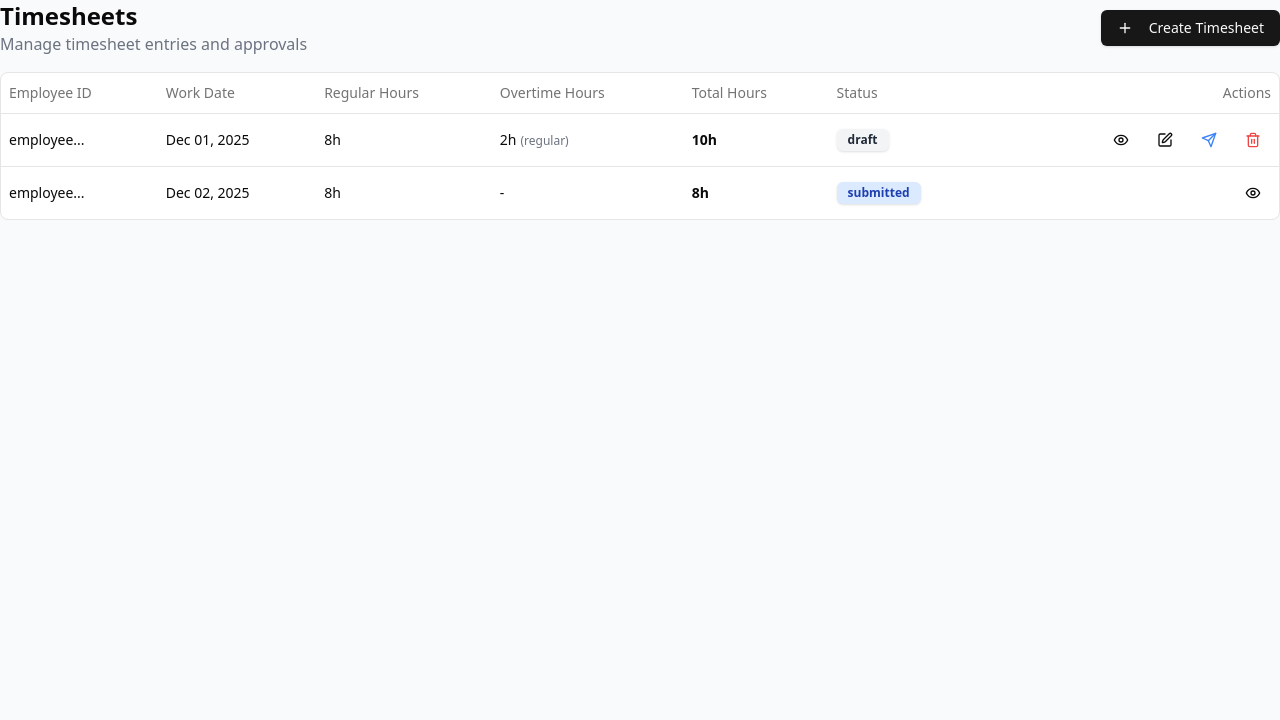
Scenario: TimesheetList › should open delete dialog on delete click
The width and height of the screenshot is (1280, 720).
Expected: the text "draft" is shown, [837,128,888,150]
Click the button titled "Delete". click: (1253, 140)
box: [1235,122,1271,158]
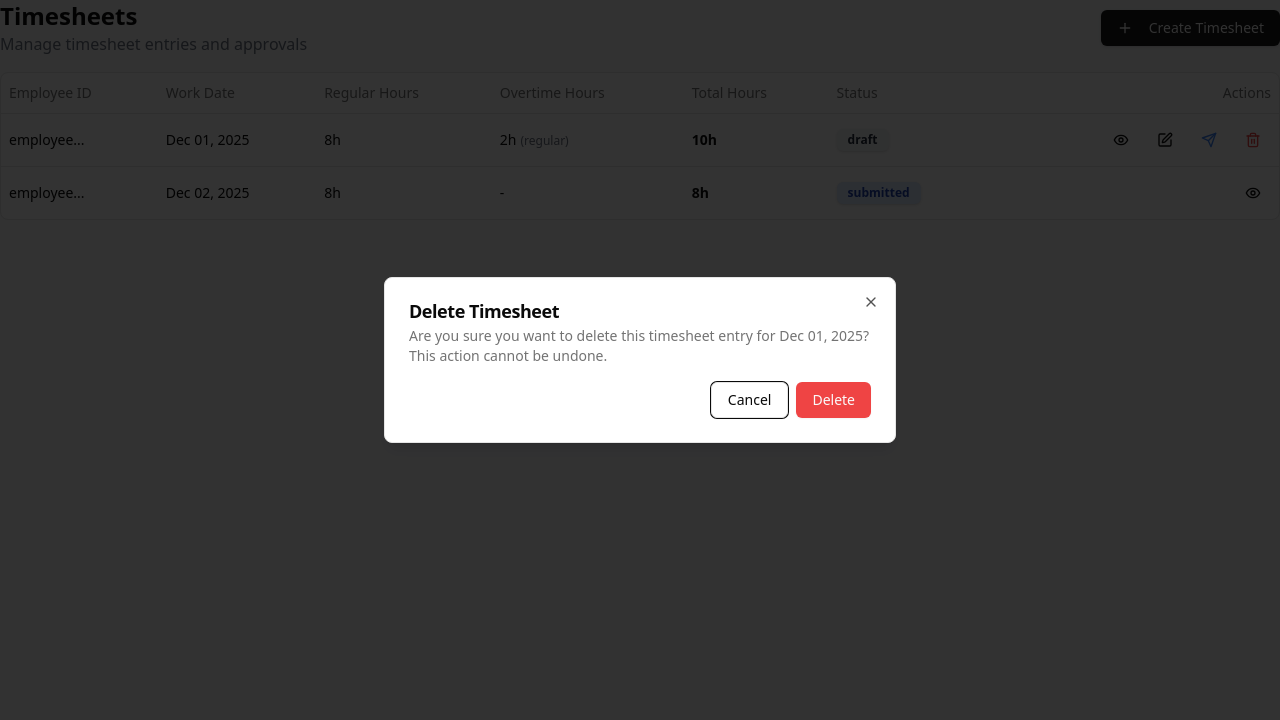
Expected: the heading "Delete Timesheet" is shown, [409,299,559,323]
Expected: the text "Are you sure you want to delete this timesheet" is shown, [409,326,776,345]
